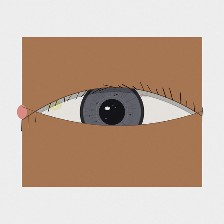pinguecula_lesion: (39, 93, 69, 117)
